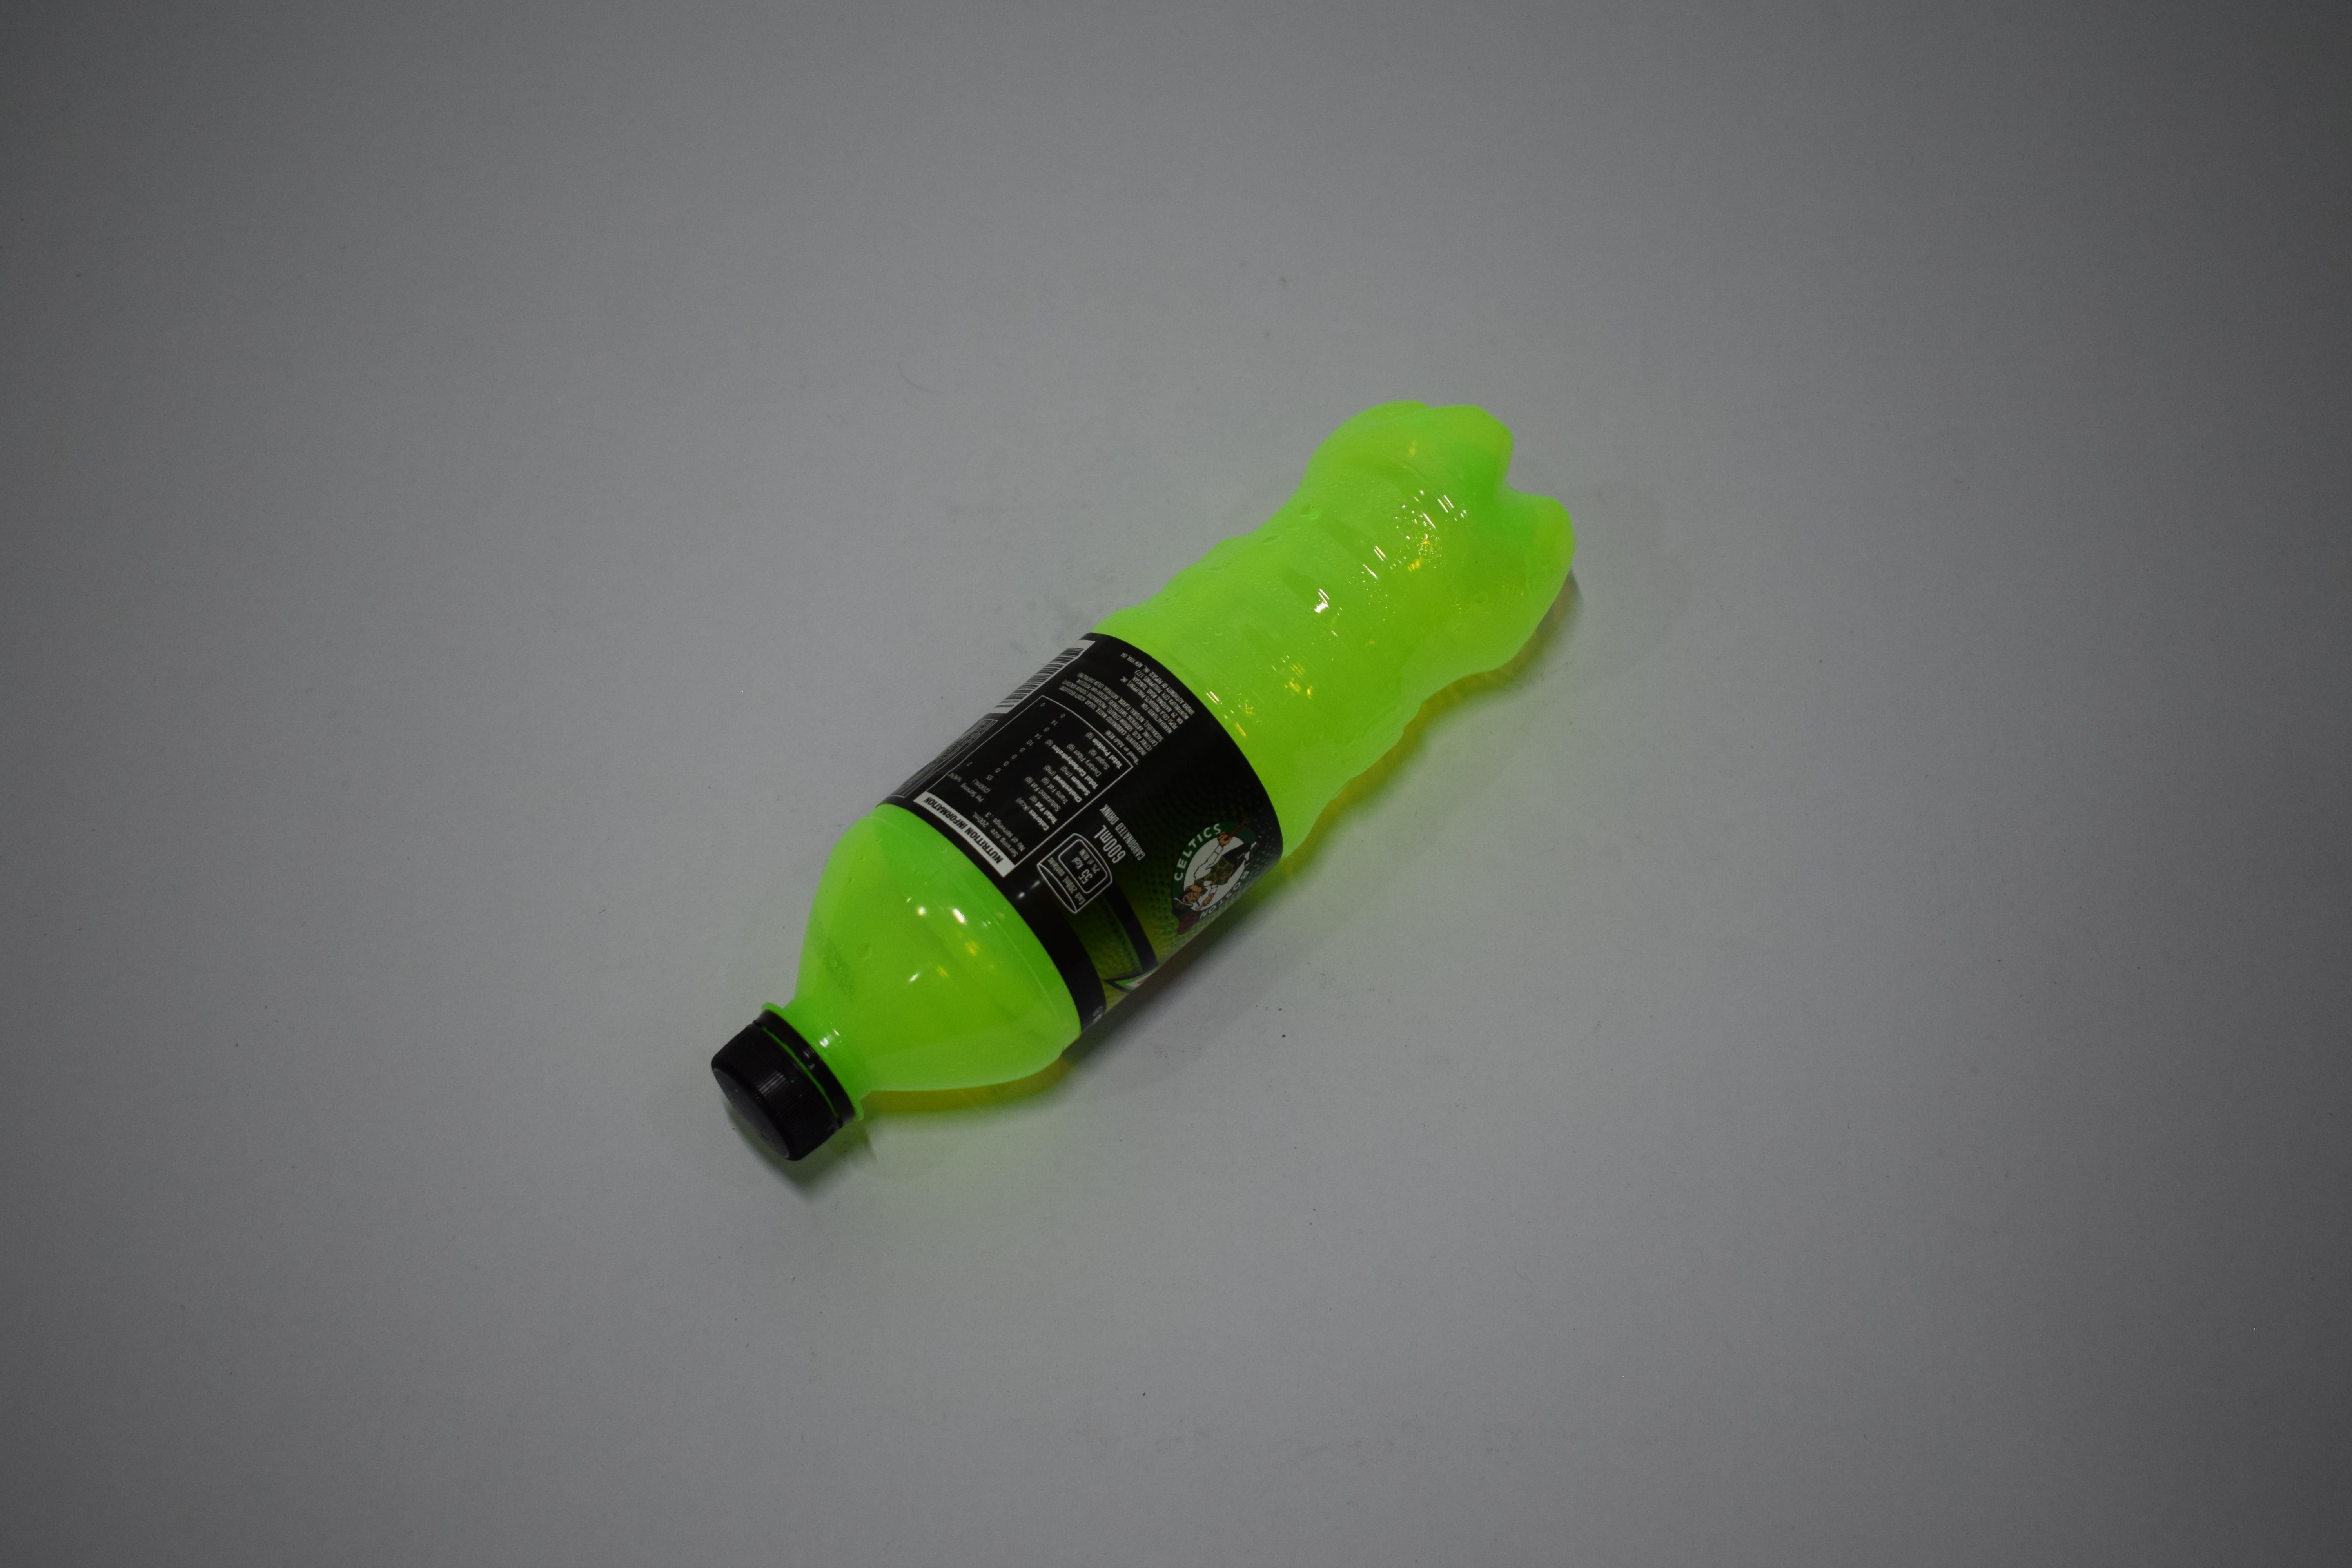bottle: (702, 777, 1587, 788)
